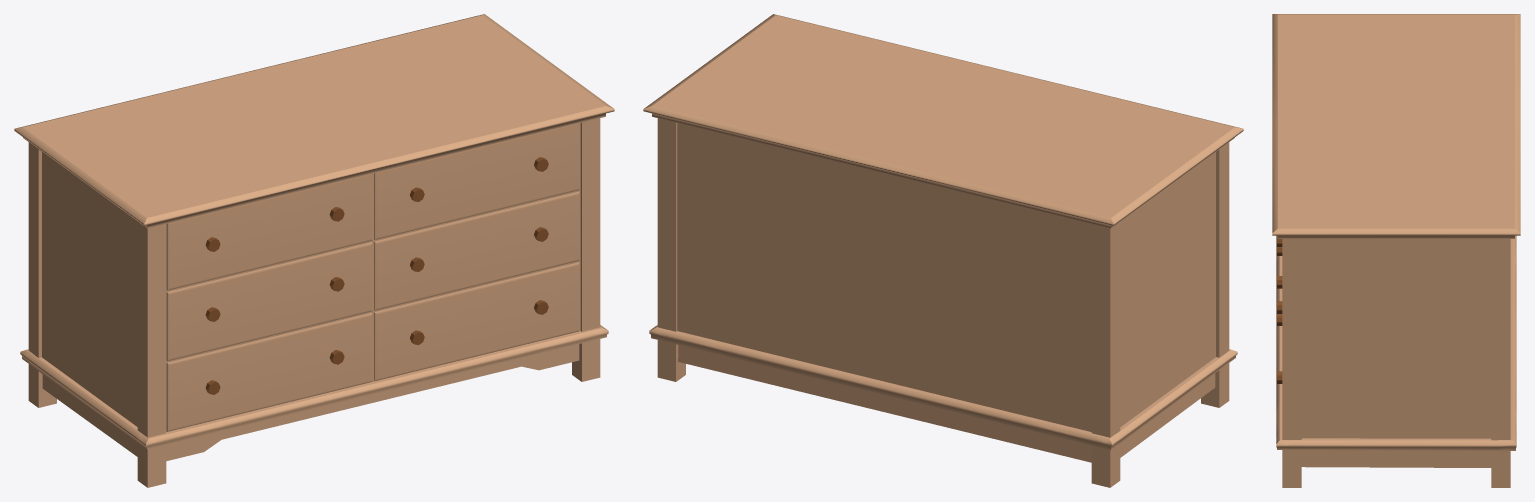
The model's file is dresser.fbx.
3 renders of one model, left to right at view 1: azimuth 30°, elevation 25°; view 2: azimuth 150°, elevation 25°; view 3: azimuth 270°, elevation 25°, orthographic. The views are drawn at different scales.
Parts seen in each view (by area): view 1: pCube4; view 2: pCube4; view 3: pCube4.
Part boxes in pixels (left/top/right/bottom): pCube4: left=14, top=14, right=614, bottom=487; pCube4: left=643, top=14, right=1243, bottom=487; pCube4: left=1272, top=14, right=1520, bottom=487.
Bounding box in the file's own units: 2.32 × 1.29 × 1.11.
